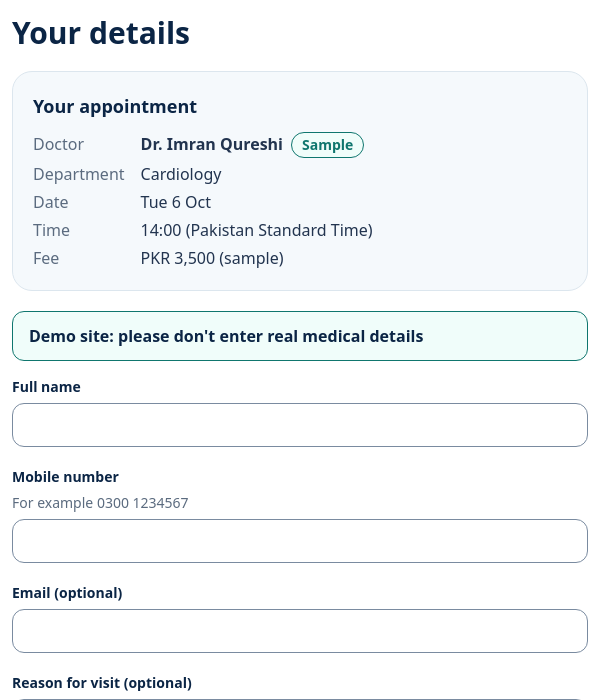
Scenario: BookingFlow: the details step › shows a friendly error, not a code, when the booking fails
Type "Ali Khan" into the field labelled "Full name".
click(300, 425); type("Ali Khan")  # box top-left (12, 403), bottom-right (588, 447)
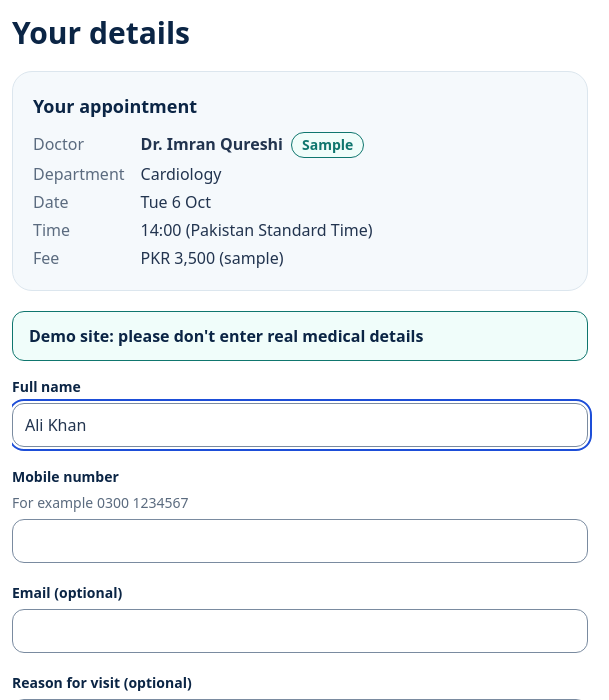
Type "0300 1234567" into the field labelled "Mobile number".
click(300, 541); type("0300 1234567")  # box top-left (12, 519), bottom-right (588, 563)
(page scrolled)
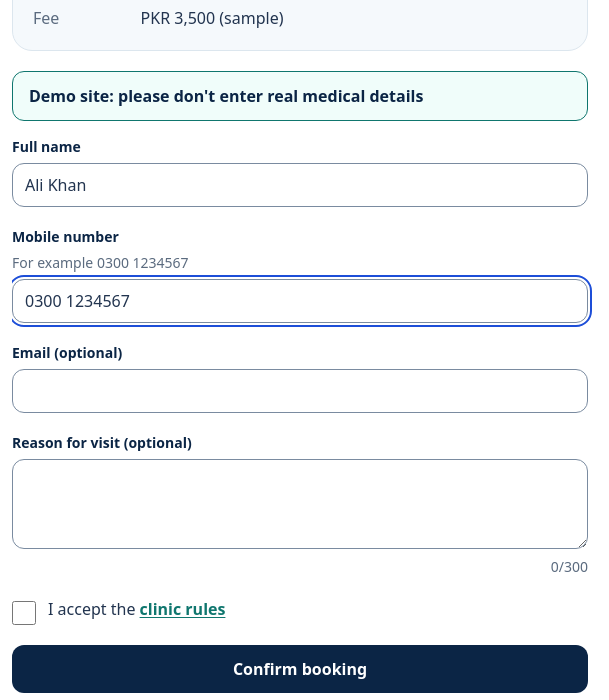
Click the checkbox labelled "I accept the clinic rules".
click(24, 613)  # box top-left (12, 601), bottom-right (36, 625)
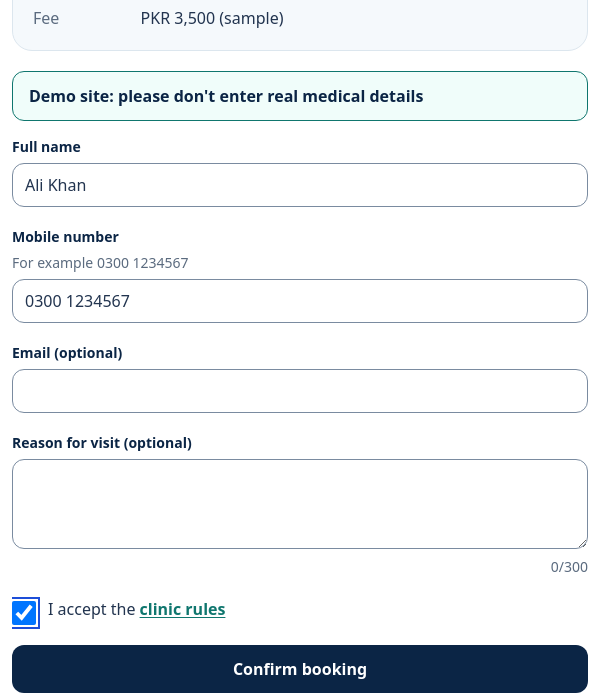
Click the button "Confirm booking".
click(300, 669)  # box top-left (12, 645), bottom-right (588, 693)
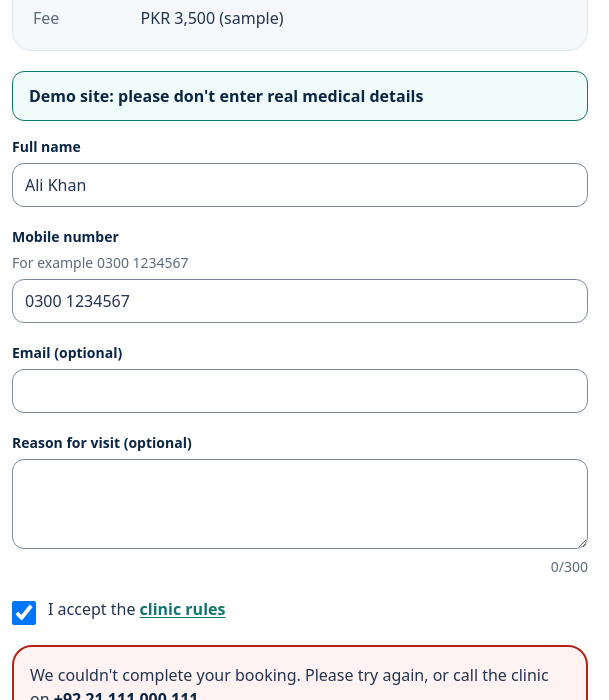
Now the message shows "couldn't complete your booking", box top-left (30, 664), bottom-right (549, 686)
